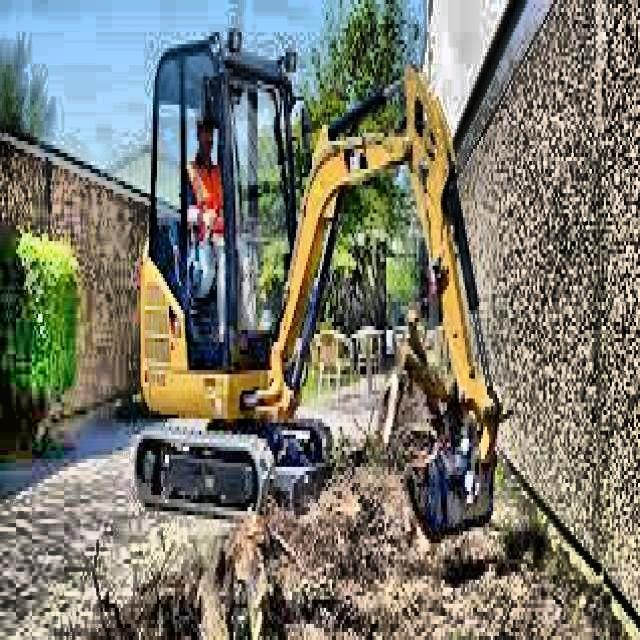bull_dozer/loader/grader: (127, 20, 515, 561)
person: (177, 102, 267, 346)
